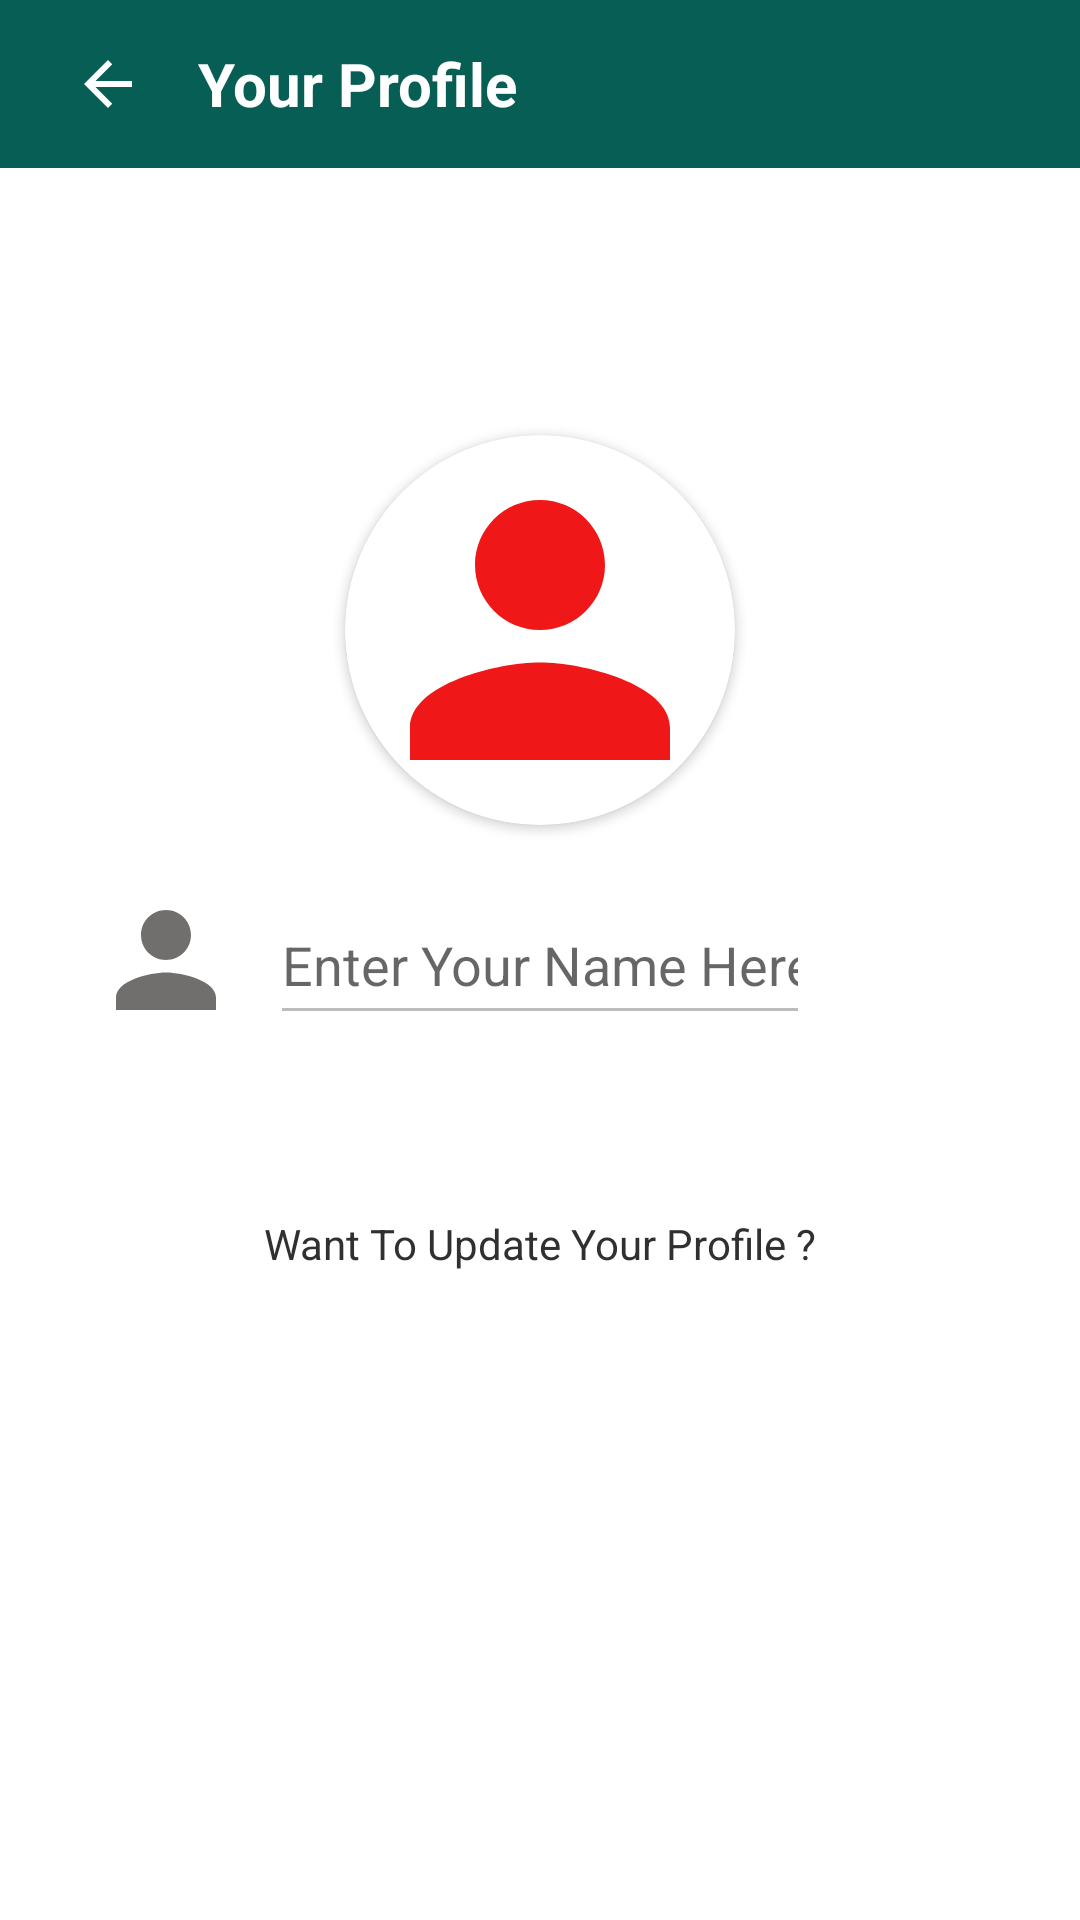

Point at icon controls on the screen. Image size 1080*1920, points as [x,y].
arrow back: [108,84]
